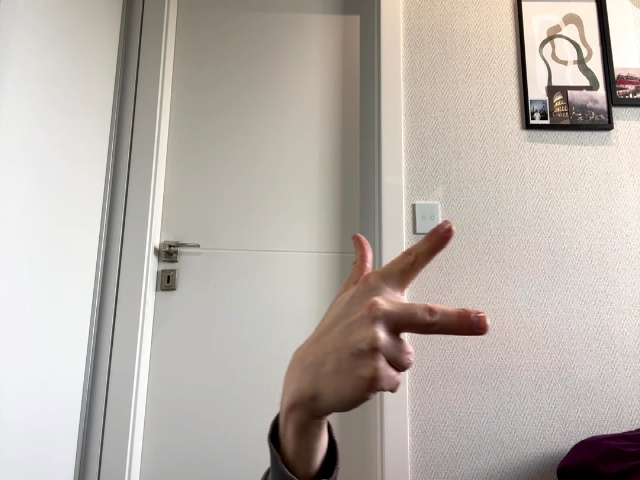K: (301, 221, 488, 419)
